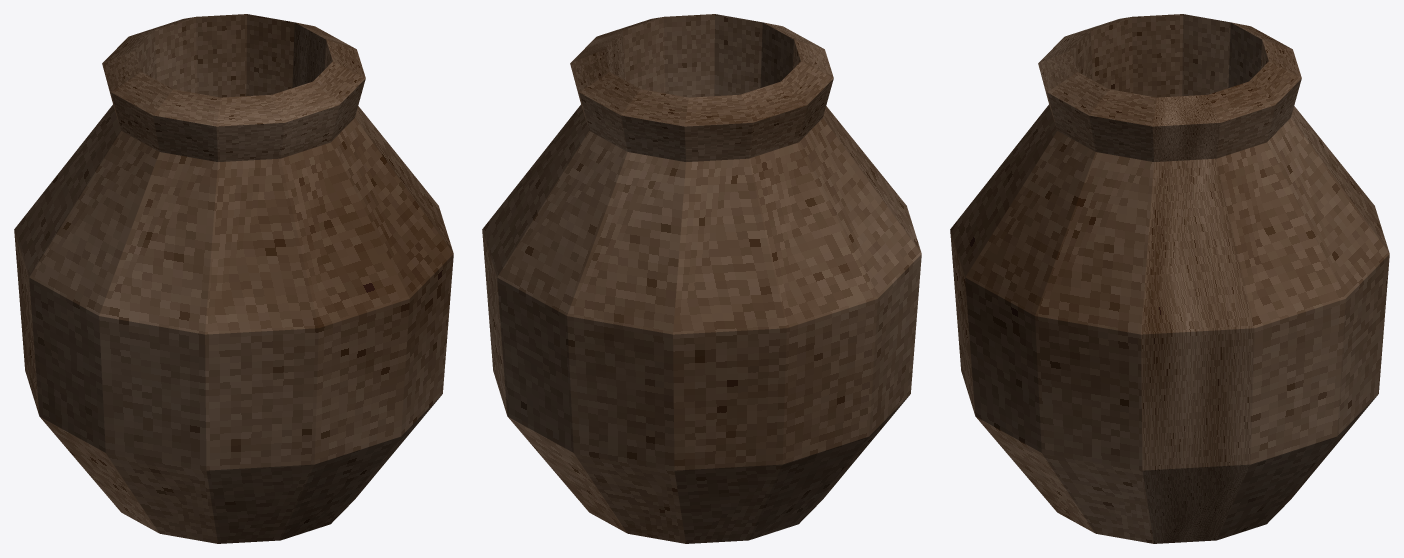
File: vaso.glb
The picture shows the model from 3 angles, left to right: view 1: azimuth 30°, elevation 25°; view 2: azimuth 150°, elevation 25°; view 3: azimuth 270°, elevation 25°; orthographic projection.
Visible parts, largest first — view 1: vaso_mesh; view 2: vaso_mesh; view 3: vaso_mesh.
Part boxes in pixels (x1,y1,x2,y2): vaso_mesh: (14,14,453,543); vaso_mesh: (482,14,921,543); vaso_mesh: (950,14,1389,543).
Bounding box in the file's own units: 0.3966 × 0.435 × 0.3966.
Materials: 1 (1 with a texture image).
